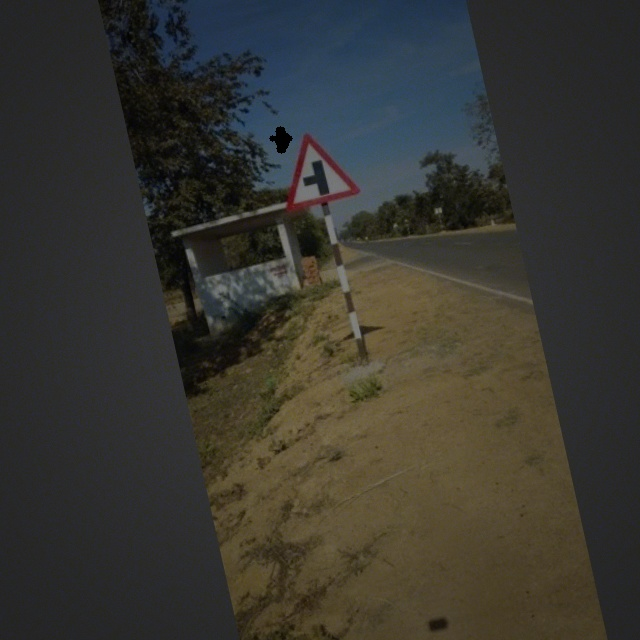Side_Road_Left: (269, 120, 364, 217)
